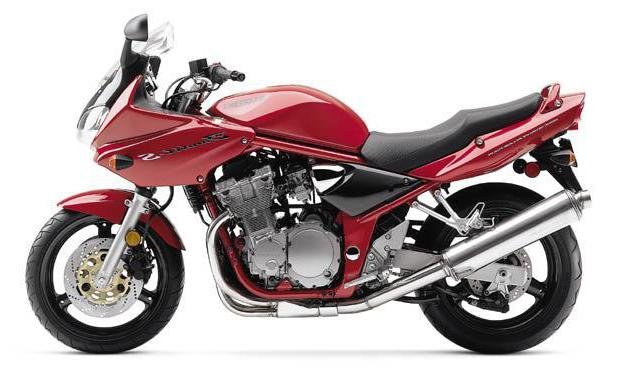motorcycle: (16, 8, 602, 365)
